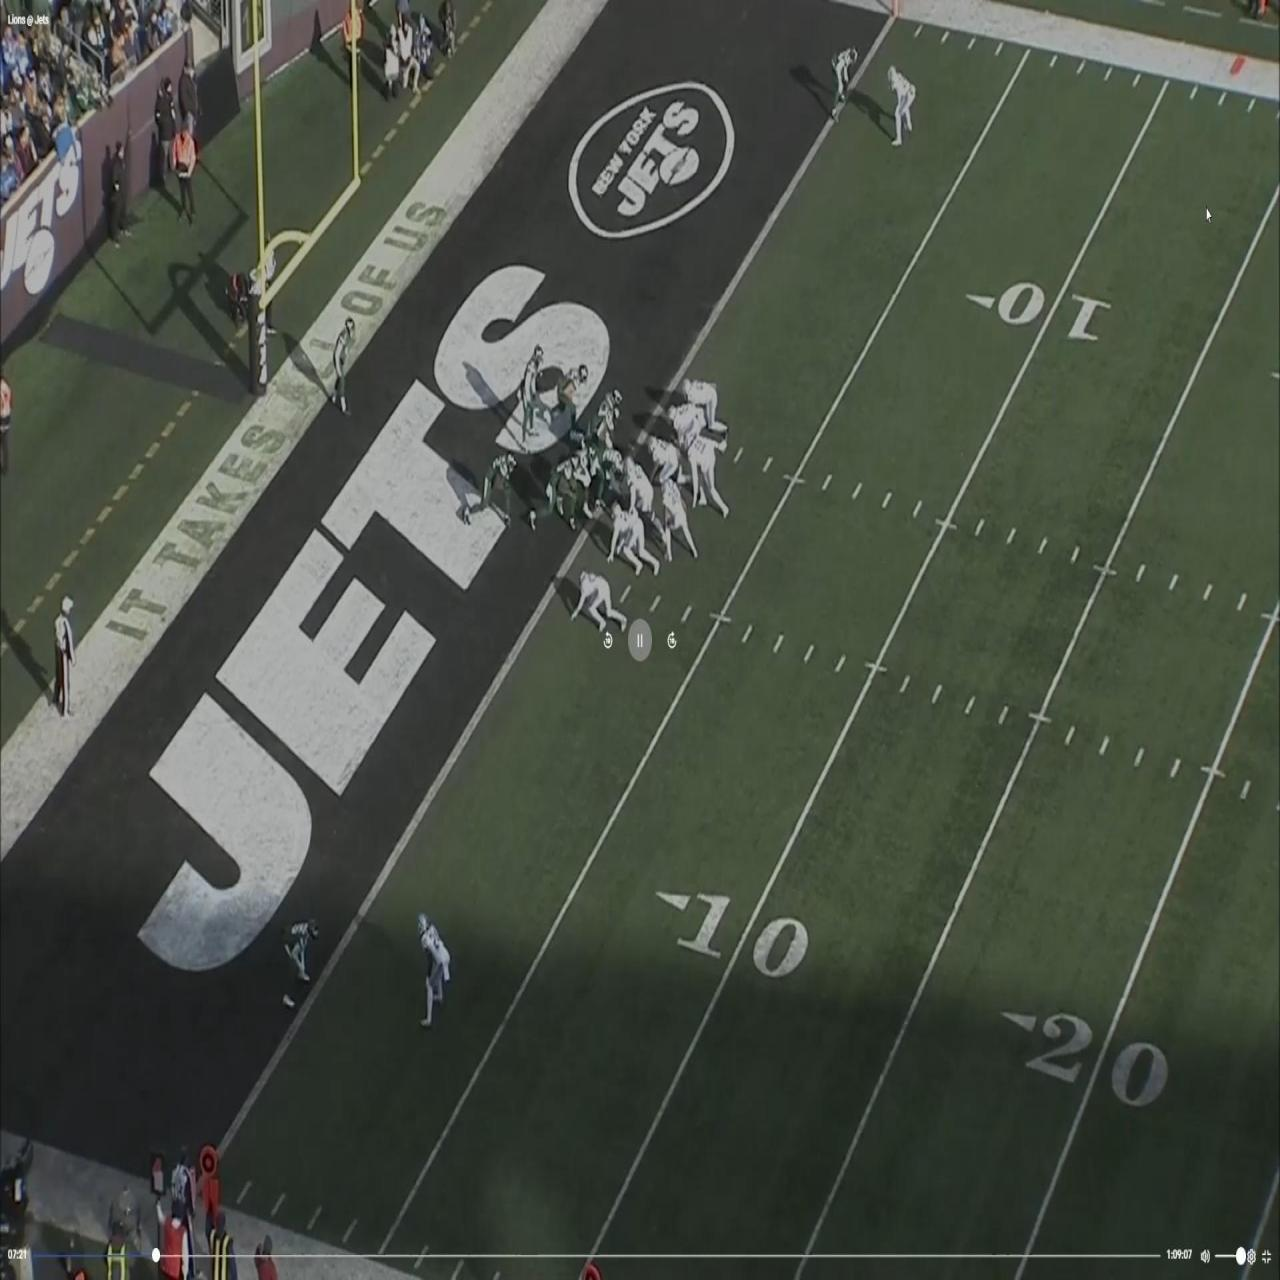10L: (654, 884, 810, 979), (965, 278, 1112, 346)
20L: (1002, 1008, 1170, 1111)
